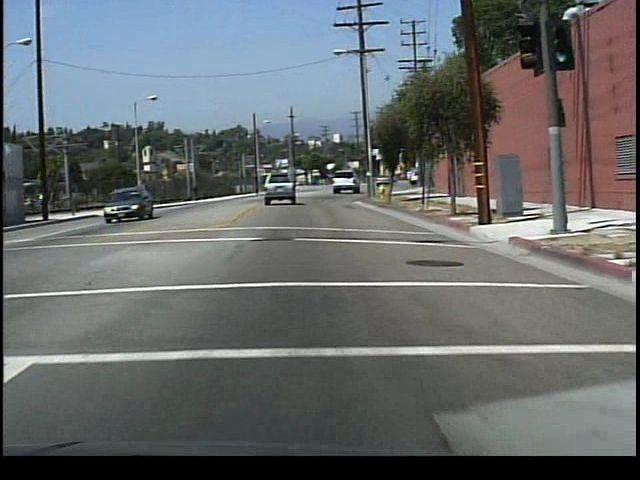person: (191, 181, 203, 203)
